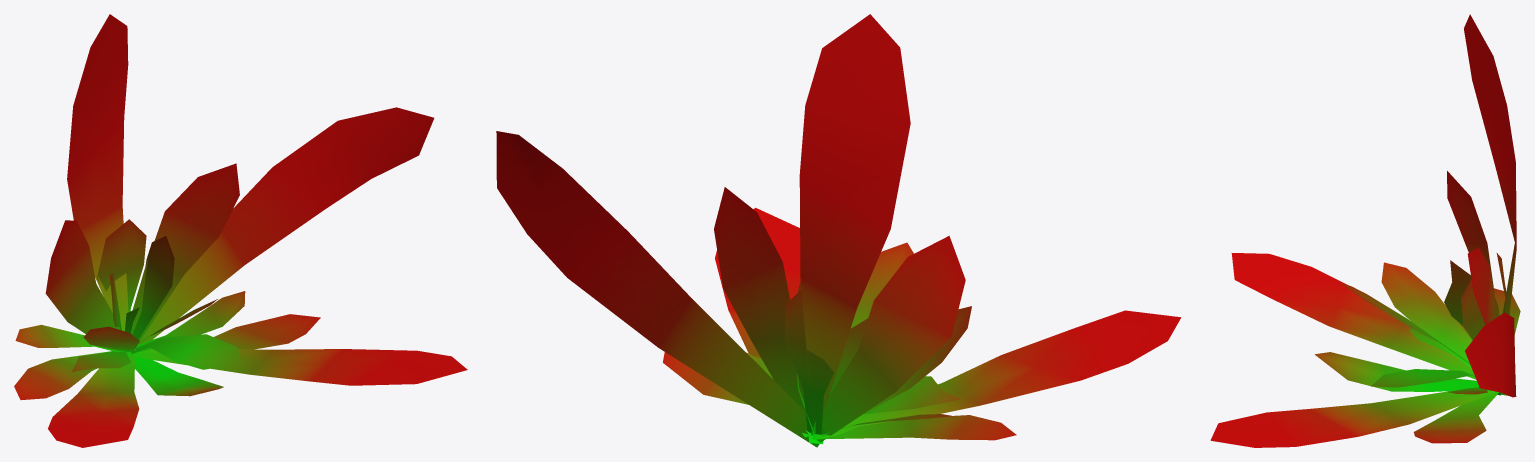
The model's file is Var12_LOD2.fbx.
3 views of the same model, side by side, from view 1: azimuth 30°, elevation 25°; view 2: azimuth 150°, elevation 25°; view 3: azimuth 270°, elevation 25° (orthographic). The views are drawn at different scales.
Visible parts, largest first — view 1: _mui9_Var12_LOD2; view 2: _mui9_Var12_LOD2; view 3: _mui9_Var12_LOD2.
Boxes of the visible parts, box(x1,y1,x2,y2) form: _mui9_Var12_LOD2: box(14, 14, 467, 447); _mui9_Var12_LOD2: box(496, 14, 1181, 447); _mui9_Var12_LOD2: box(1210, 14, 1520, 447).
Size of the model in its own units: 20.65 by 15.22 by 11.68.
